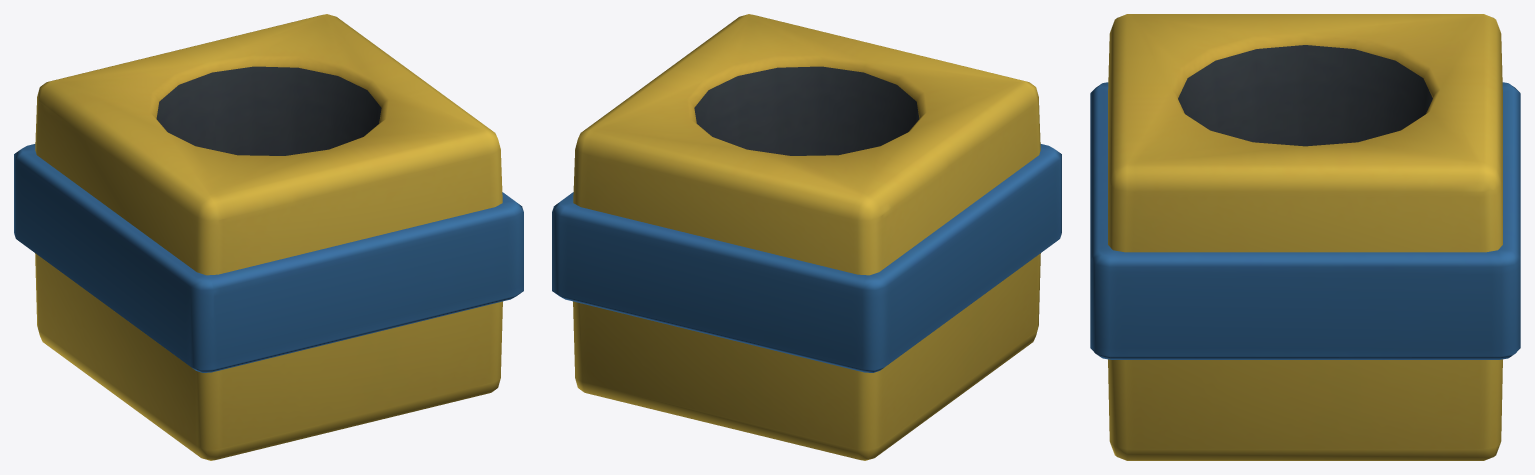
Rendered from HoleCube.fbx.
3 renders of one model, left to right at view 1: azimuth 30°, elevation 25°; view 2: azimuth 150°, elevation 25°; view 3: azimuth 270°, elevation 25°, orthographic. The views are drawn at different scales.
Parts seen in each view (by area): view 1: HoleCube; view 2: HoleCube; view 3: HoleCube.
Boxes of the visible parts, x1=… form: HoleCube: x1=14, y1=14, x2=523, y2=460; HoleCube: x1=552, y1=14, x2=1061, y2=460; HoleCube: x1=1090, y1=14, x2=1520, y2=460.
Bounding box in the file's own units: 354 × 269 × 354.
